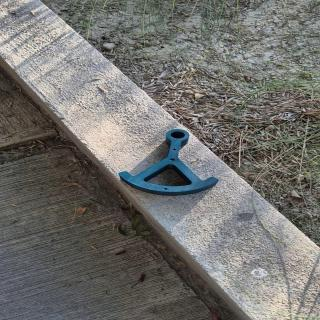haptic: (118, 129, 219, 196)
